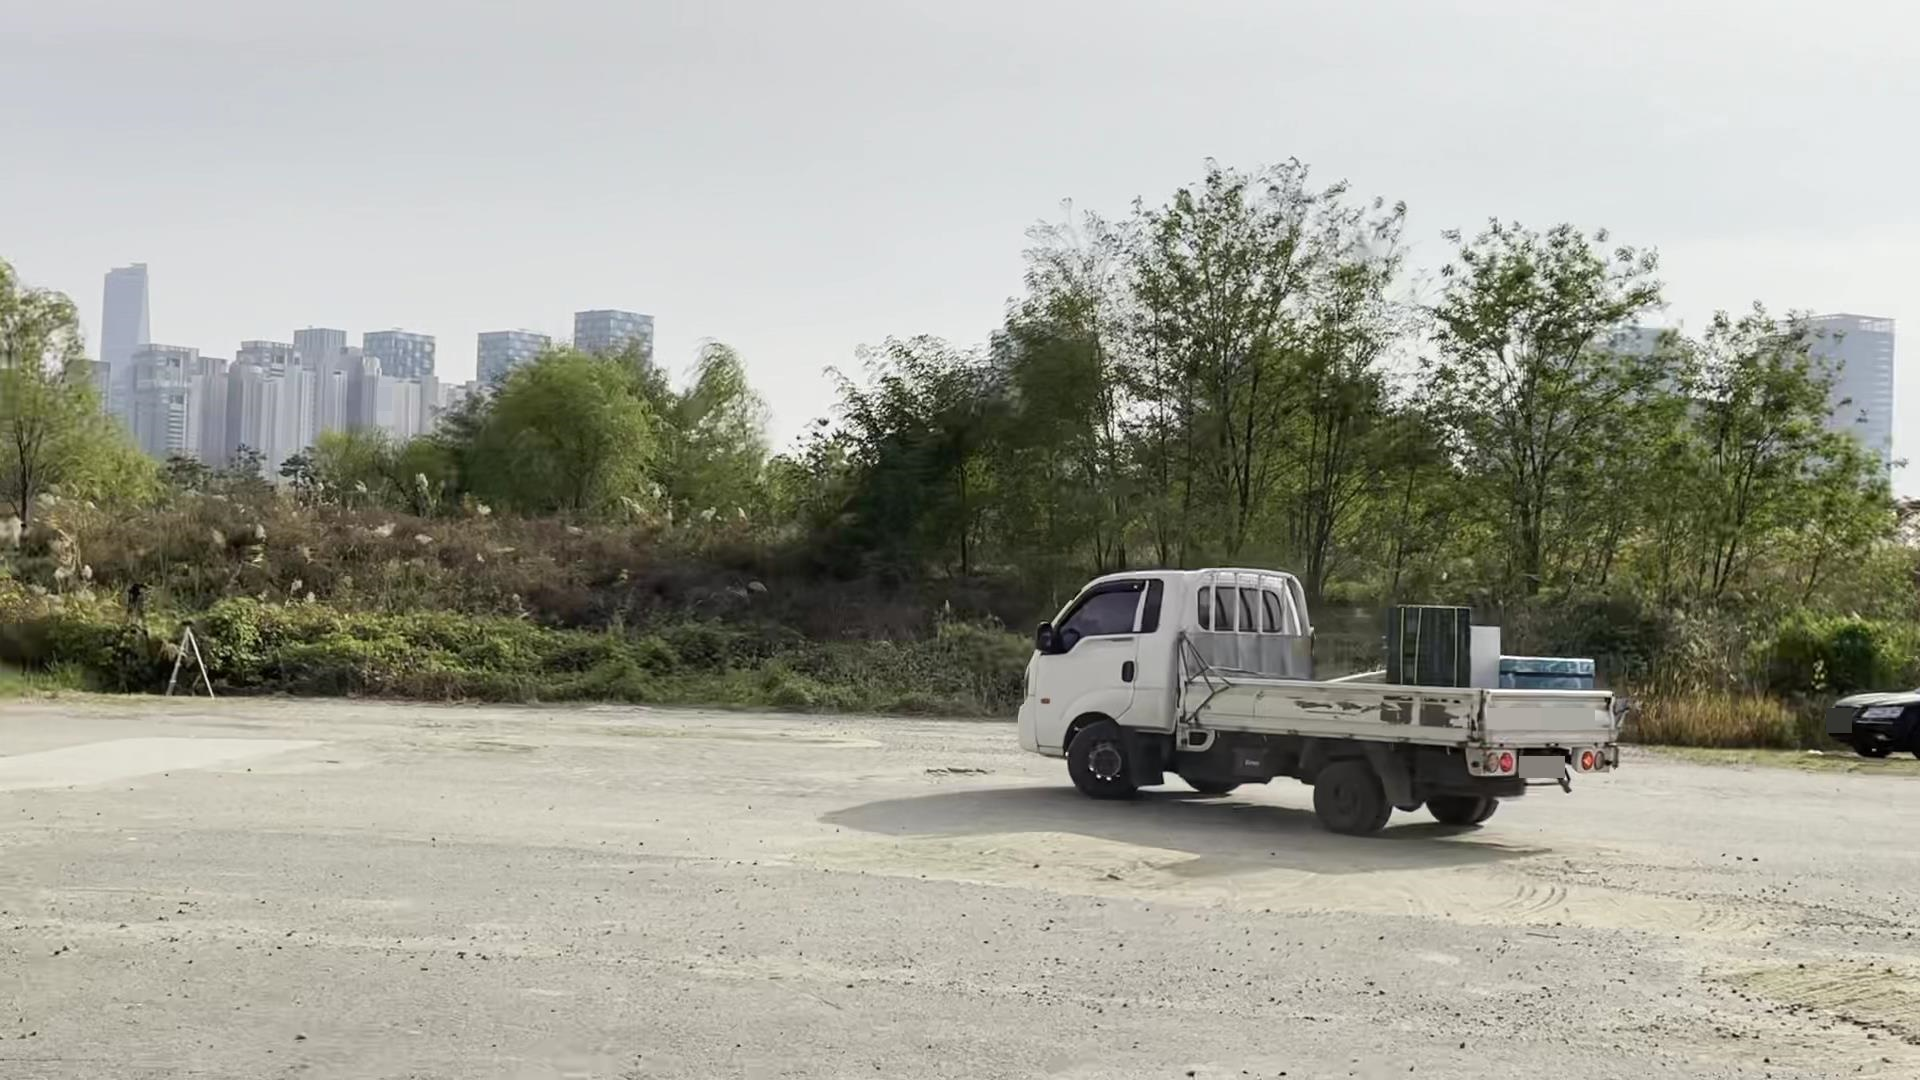불법차량: (1017, 568, 1622, 837)
